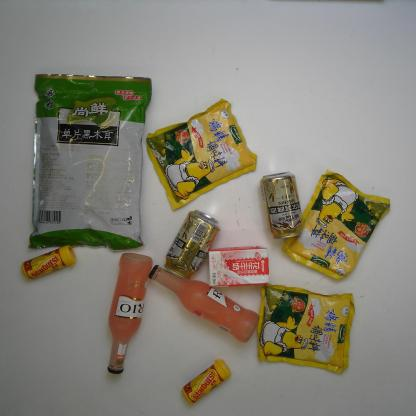Alcohol: (144, 262, 262, 346), (102, 250, 156, 376), (160, 206, 224, 282), (257, 167, 307, 243)
Candy: (178, 357, 234, 407), (18, 242, 81, 284)
Dried Food: (26, 69, 154, 254)
Milk: (206, 243, 273, 289)
Seasoner: (144, 93, 260, 213), (279, 167, 392, 282), (254, 280, 358, 376)
